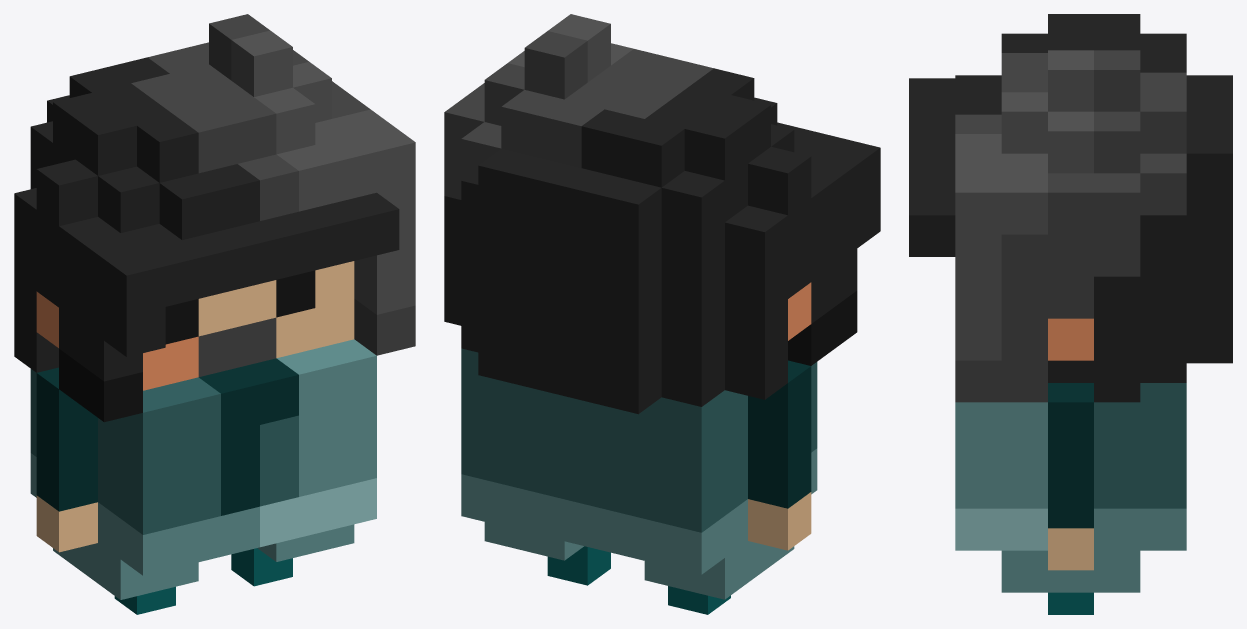
The model's file is creep_front.obj.
3 renders of one model, left to right at view 1: azimuth 30°, elevation 25°; view 2: azimuth 150°, elevation 25°; view 3: azimuth 270°, elevation 25°, orthographic. The views are drawn at different scales.
Size of the model in its own units: 8 by 13 by 7.
1 material, 1 textured.
